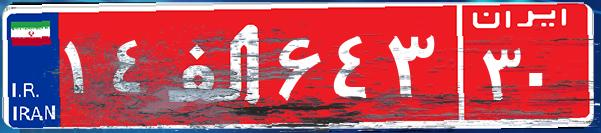0: (525, 38, 570, 115)
1: (57, 26, 110, 107)
3: (385, 28, 445, 110), (475, 38, 525, 113)
4: (330, 28, 385, 110), (110, 28, 158, 105)
6: (273, 28, 330, 110)
الف: (158, 15, 273, 115)
